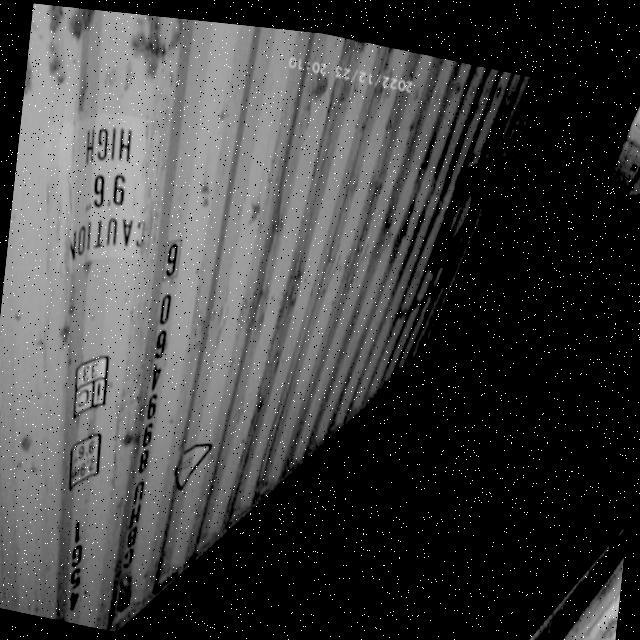rust: (124, 16, 182, 68), (62, 6, 97, 42)
